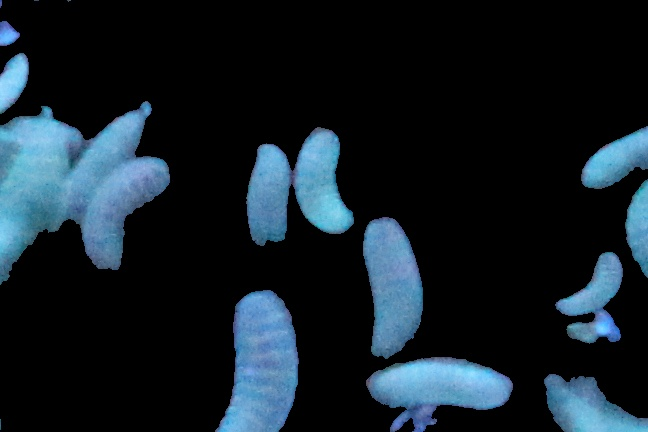larvae: (216, 289, 299, 432), (66, 101, 155, 229), (80, 157, 168, 274), (1, 133, 64, 294), (363, 216, 421, 361), (360, 357, 513, 410), (542, 373, 648, 432), (299, 125, 352, 233), (247, 140, 292, 254), (553, 250, 623, 318), (579, 124, 648, 191), (615, 177, 648, 279), (1, 57, 31, 115)
